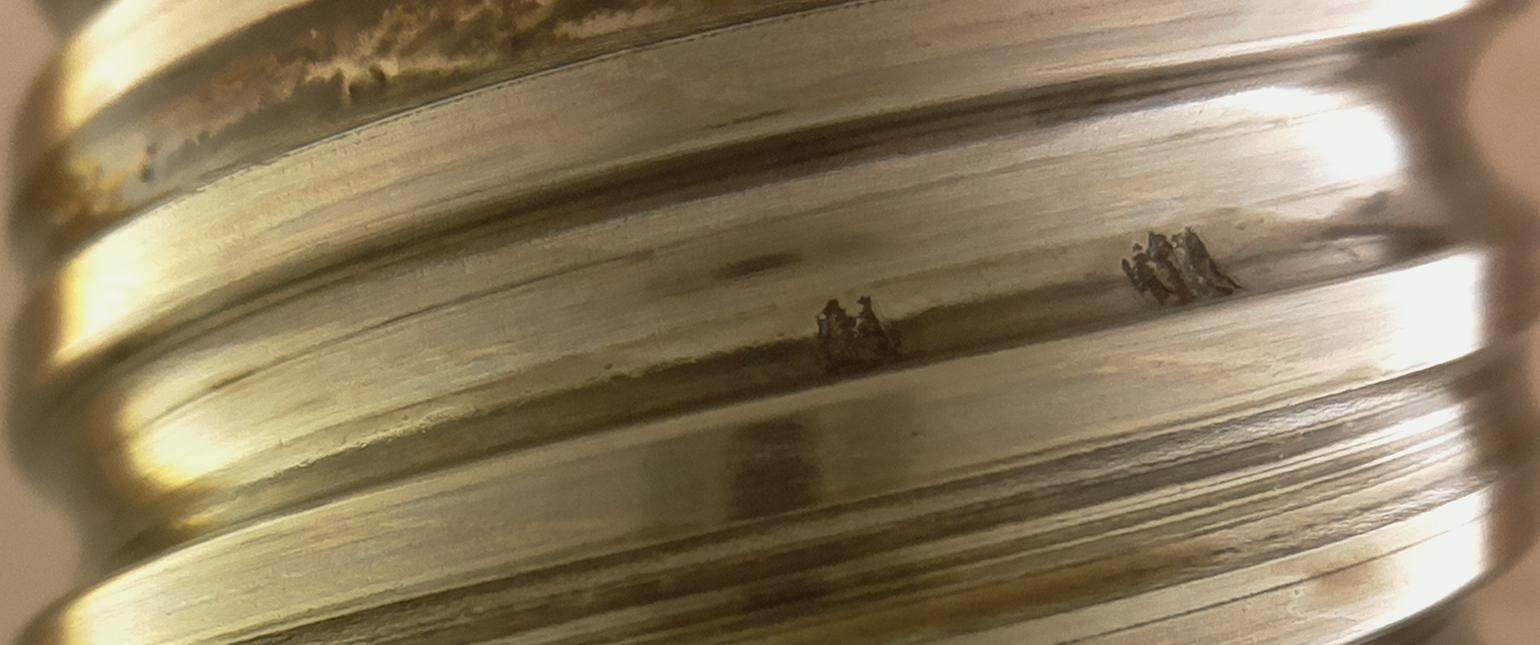pitting: (1120, 227, 1241, 306), (816, 296, 903, 377)
